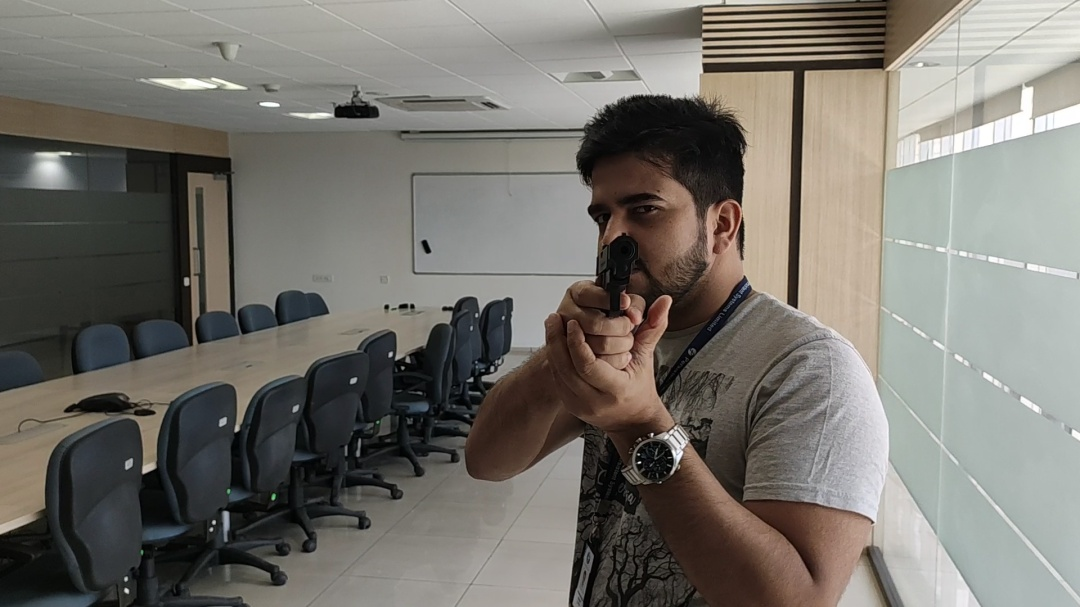gun: (595, 231, 637, 290)
